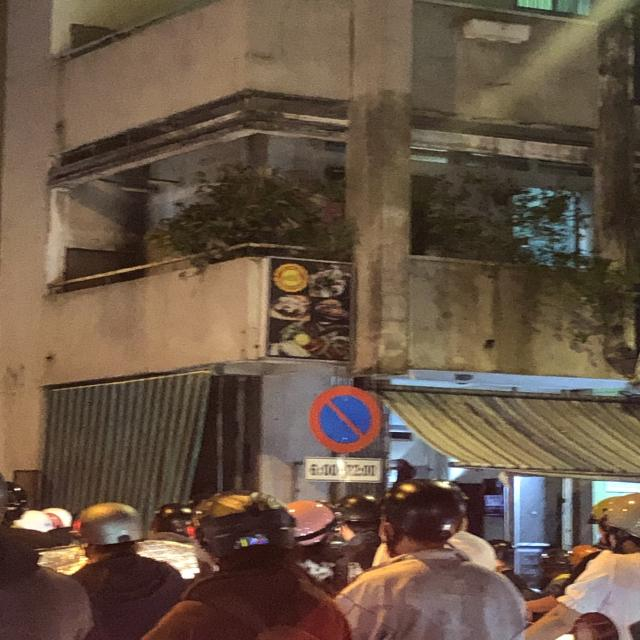Bien bao cam do xe: (306, 377, 388, 455)
